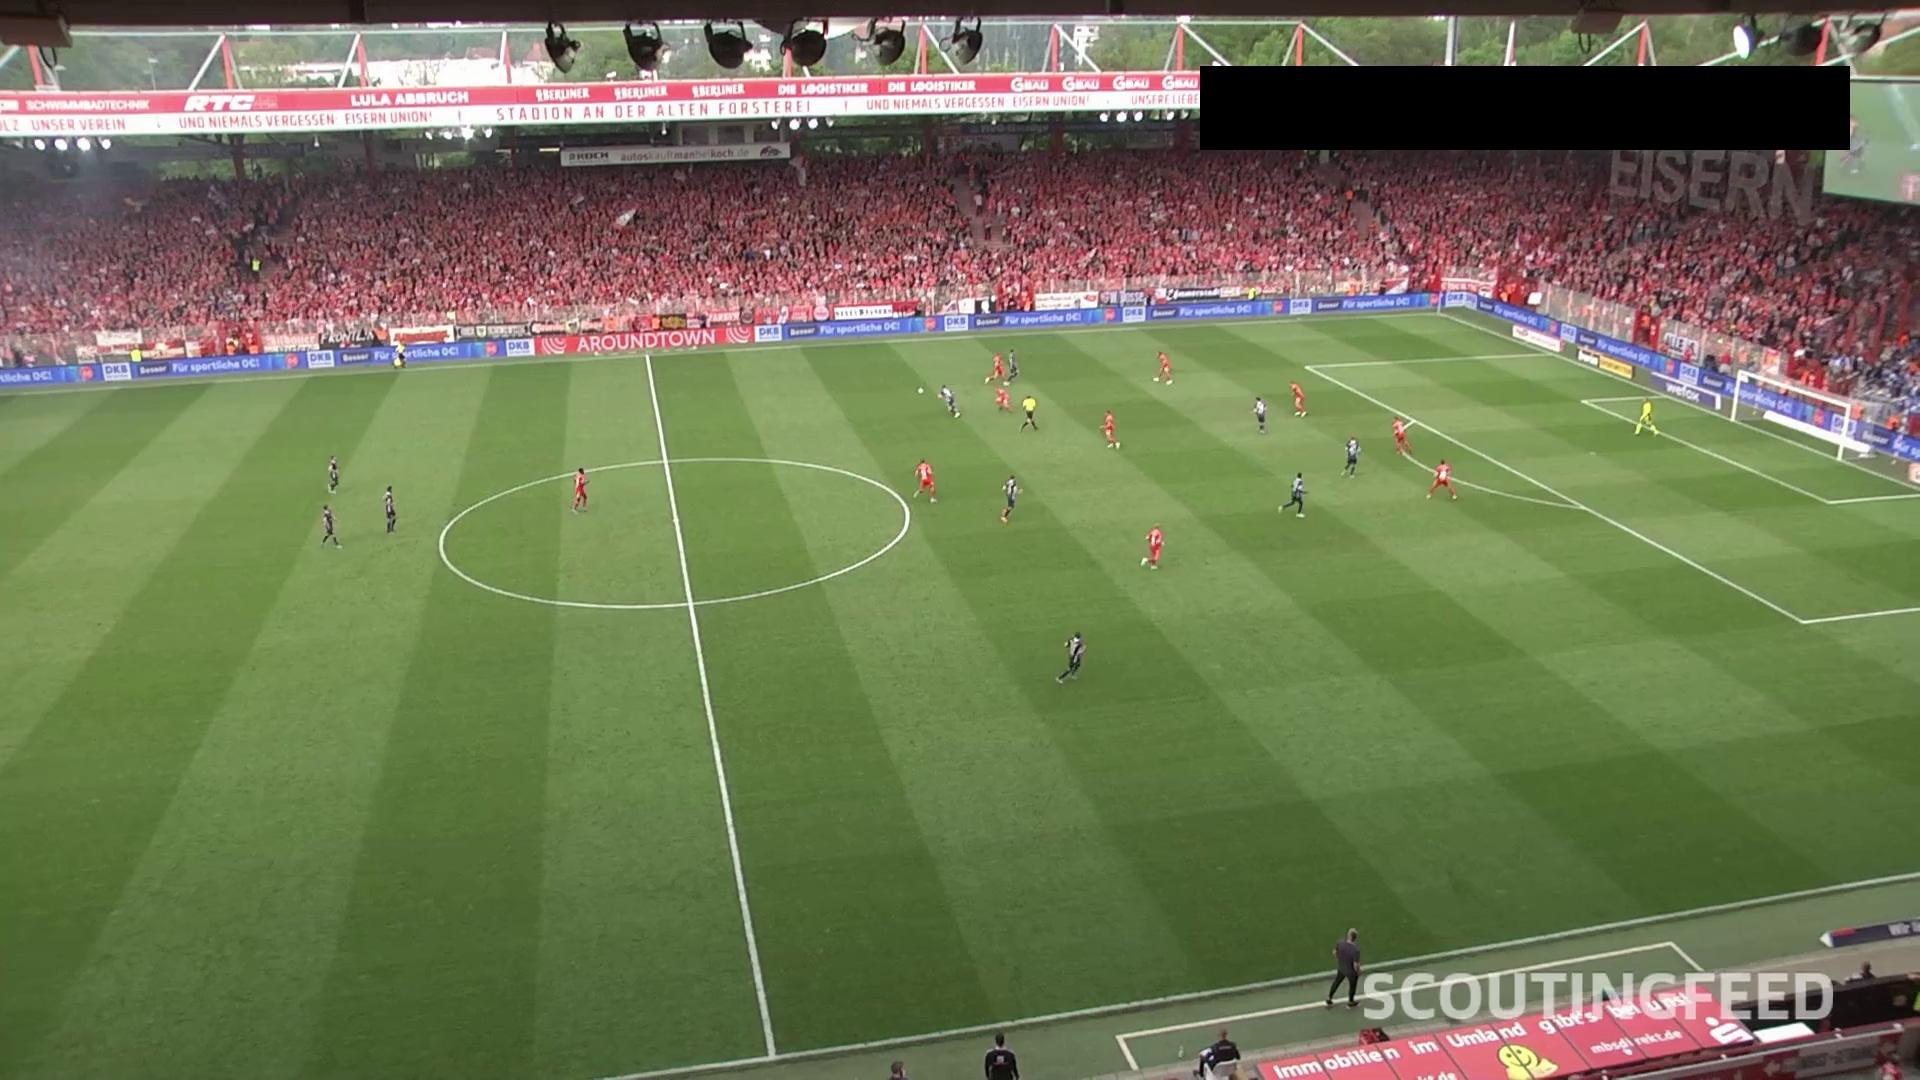Location-of-ball: (915, 385, 928, 400)
